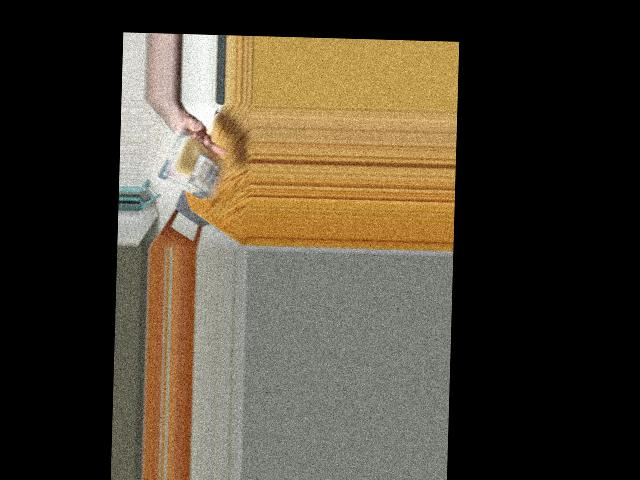cheese: (162, 131, 219, 204)
